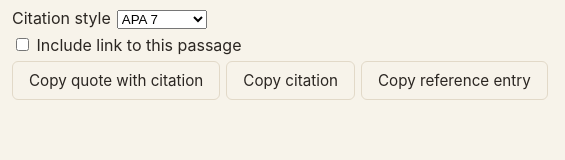
Test case: CiteControl › never_claims_success_when_the_clipboard_refuses
The width and height of the screenshot is (565, 160).
Click the button "Copy citation" at (291, 80), box [226,61,355,100]
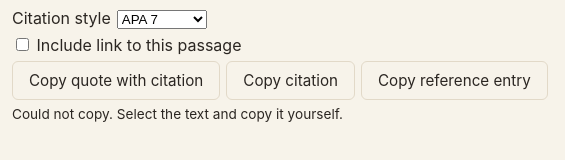
Expected: the message shows "Could not copy", [12,106,343,122]
